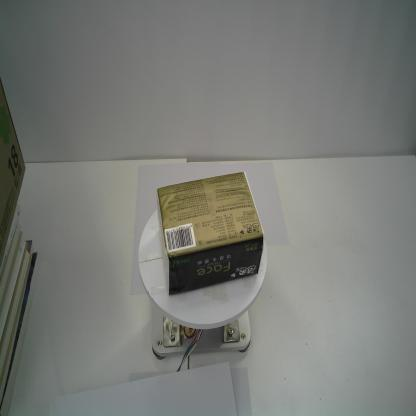Tissue: (154, 169, 266, 299)
